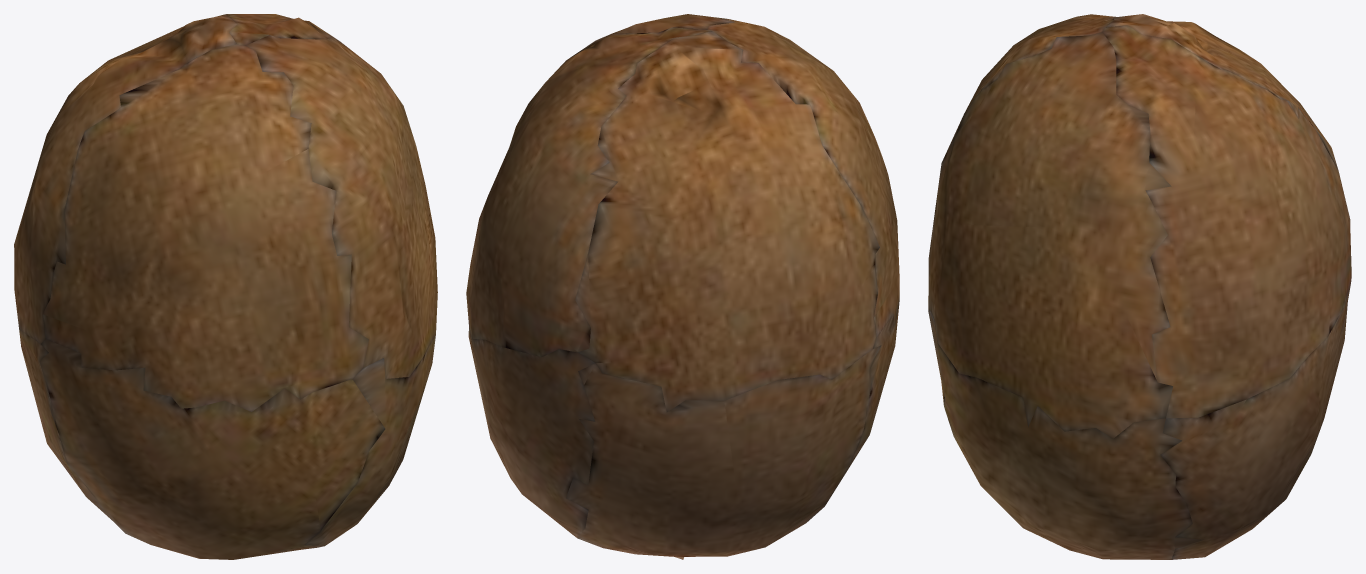
Rendered from food_kiwi_01.glb.
The picture shows the model from 3 angles, left to right: view 1: azimuth 30°, elevation 25°; view 2: azimuth 150°, elevation 25°; view 3: azimuth 270°, elevation 25°; orthographic projection.
Visible parts, largest first — view 1: food_kiwi_01; view 2: food_kiwi_01; view 3: food_kiwi_01.
Part boxes in pixels (<box>): food_kiwi_01: <box>14,14,437,559</box>; food_kiwi_01: <box>466,14,899,559</box>; food_kiwi_01: <box>928,14,1351,559</box>.
Size of the model in its own units: 0.0691 by 0.09 by 0.068.
1 material, 1 textured.
